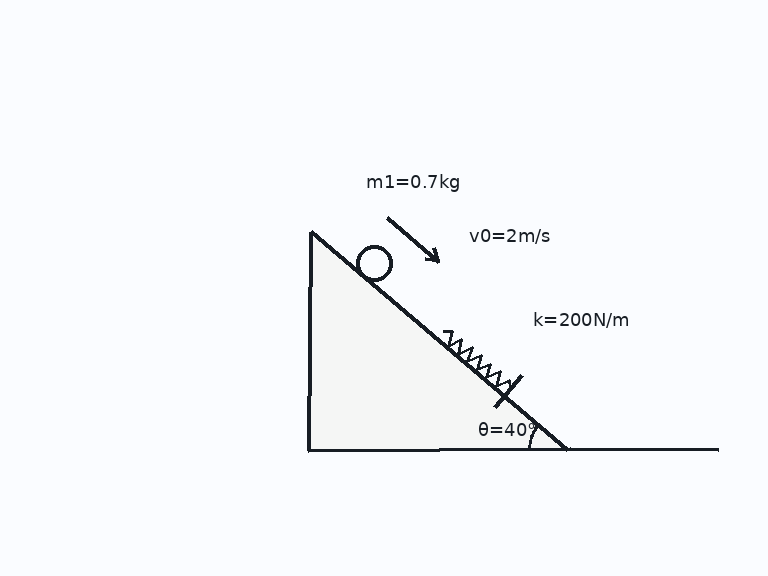ball: (354, 243, 394, 283)
ramp: (307, 230, 571, 452)
spring: (440, 329, 512, 391)
